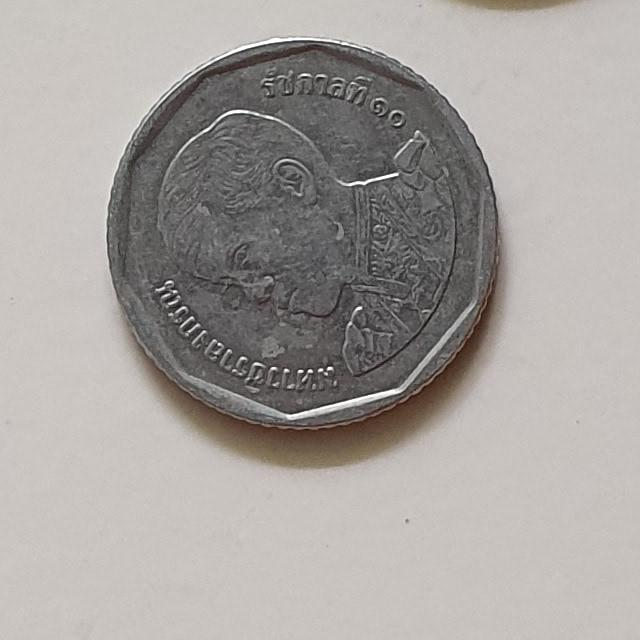5 Bath: (96, 31, 510, 450)
